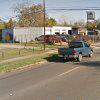Car: (48, 34, 98, 64)
